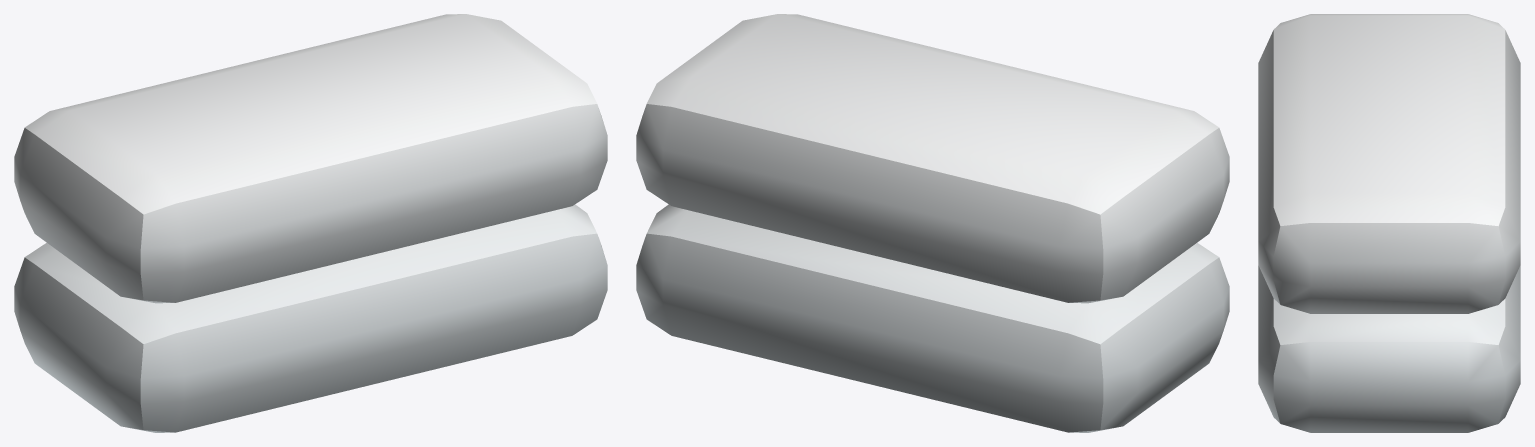
File: barrier_2x1x1.glb
3 renders of one model, left to right at view 1: azimuth 30°, elevation 25°; view 2: azimuth 150°, elevation 25°; view 3: azimuth 270°, elevation 25°, orthographic. The views are drawn at different scales.
Parts seen in each view (by area): view 1: barrier_2x1x1; view 2: barrier_2x1x1; view 3: barrier_2x1x1.
Boxes of the visible parts, x1,y1,x2,y2 form: barrier_2x1x1: [14, 14, 607, 432]; barrier_2x1x1: [636, 14, 1229, 432]; barrier_2x1x1: [1258, 14, 1520, 432].
Bounding box in the file's own units: 2 × 1 × 1.
1 material, 1 textured.
